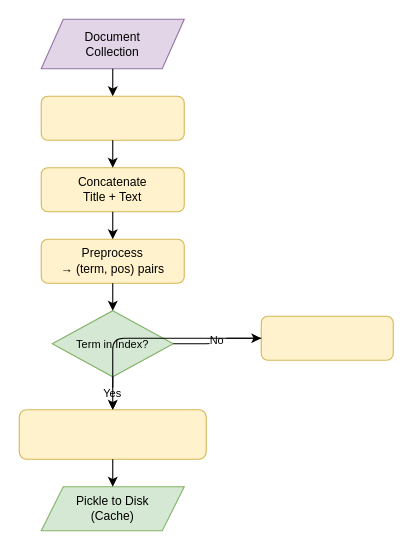
The diagram is 413 pixels wide and 550 high, and some of its shapes have lost their labels. The centre of each missing label's shape, as x and y in pixels:
"Append Position to Posting List index[term][doc_id].append(pos)" belongs at [112,434].
"Create Entry index[term] = {}" belongs at [326,337].
"For Each Document" belongs at [112,117].
